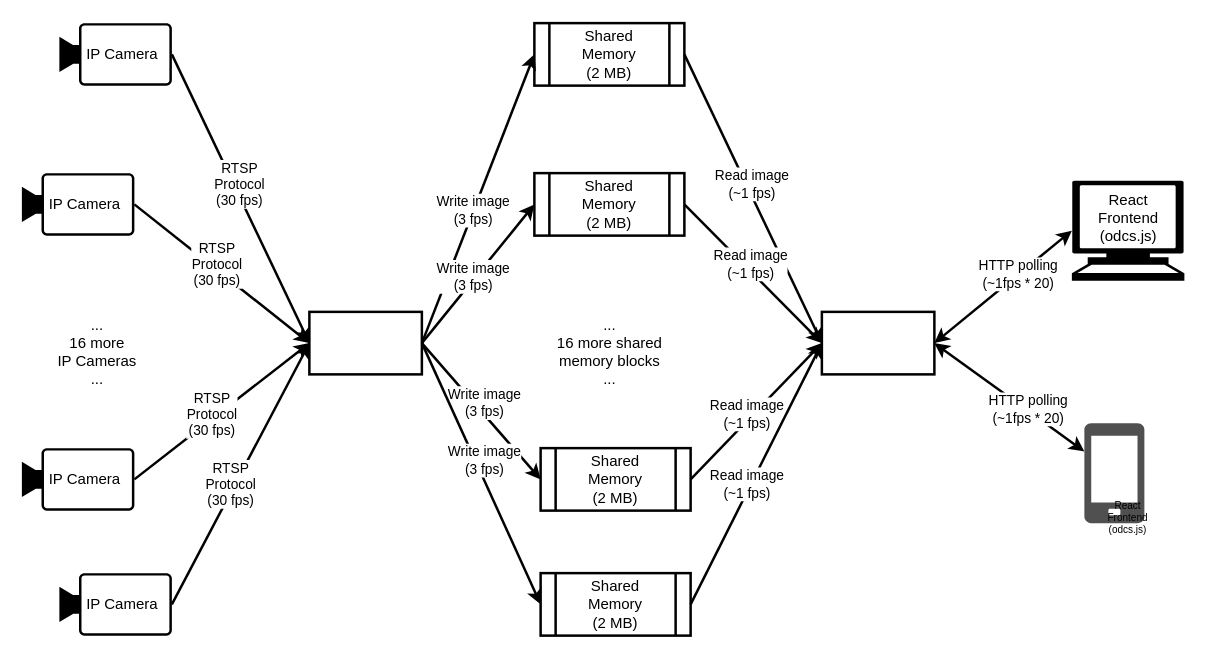
The diagram is 1205 pixels wide and 658 high, and some of its shapes have lost their labels. The shapes that lost their labels are listed below. From the top down, each one's centre as x and y in pixels, then its label:
the point at 365,342: RTSP Client (cam.out)
the point at 877,342: HTTP Server (odcs.out)
